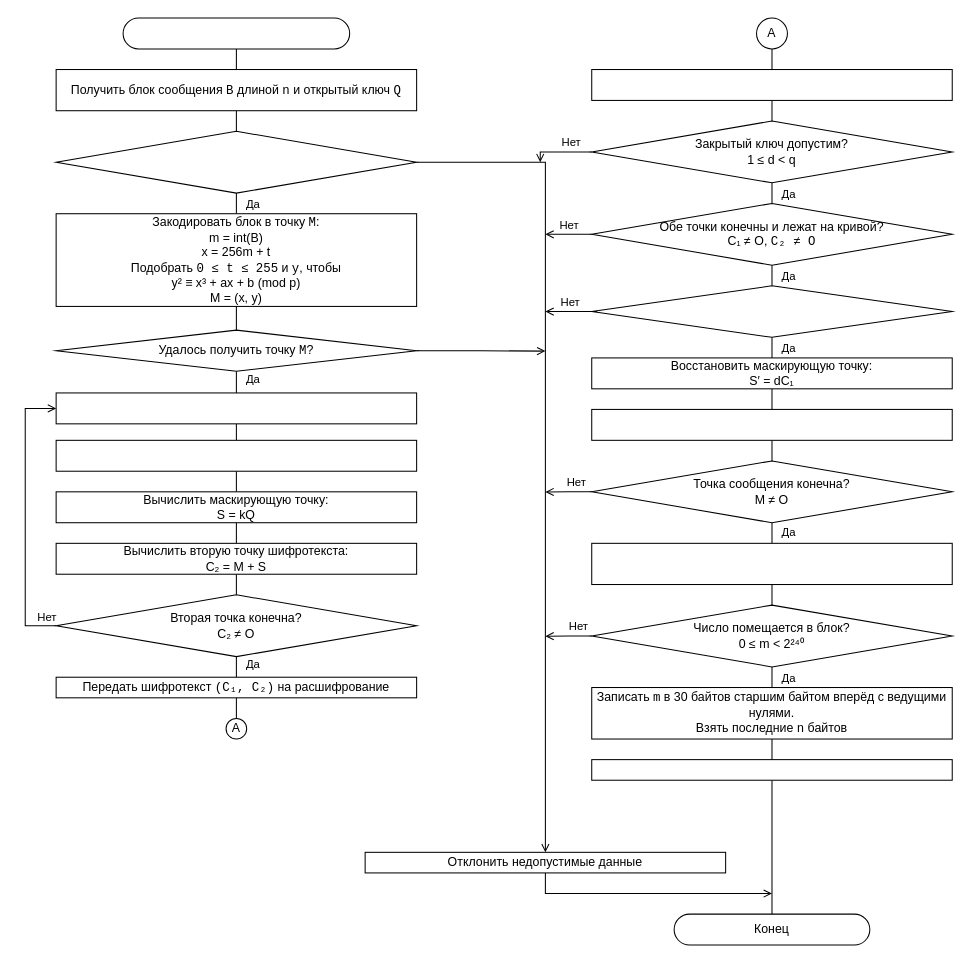
Some shapes in this 970 by 963 pixel diagram are drawn without their labels. The shapes that lost their labels are listed below. From the top down, each one's box as (x1, y1, x2, y2) in pixels, then its label:
(122, 17, 350, 49): Начало
(591, 68, 952, 100): Получить шифротекст (C₁, C₂) , закрытый ключ d и длину блока n
(55, 130, 417, 193): Открытый ключ допустим? Q ≠ O, Q лежит на кривой, qQ = O
(591, 285, 952, 337): Первая точка принадлежит нужной подгруппе? qC₁ = O
(55, 392, 417, 424): Выбрать новое случайное число k : 1 ≤ k < q
(591, 408, 952, 440): Восстановить точку сообщения: M = C₂ − S′
(55, 439, 417, 471): Вычислить первую точку шифротекста: C₁ = kP
(591, 542, 952, 585): Перевести M в обычные координаты и извлечь число: m = ⌊x(M)/256⌋
(591, 759, 952, 780): Выдать восстановленный блок B
